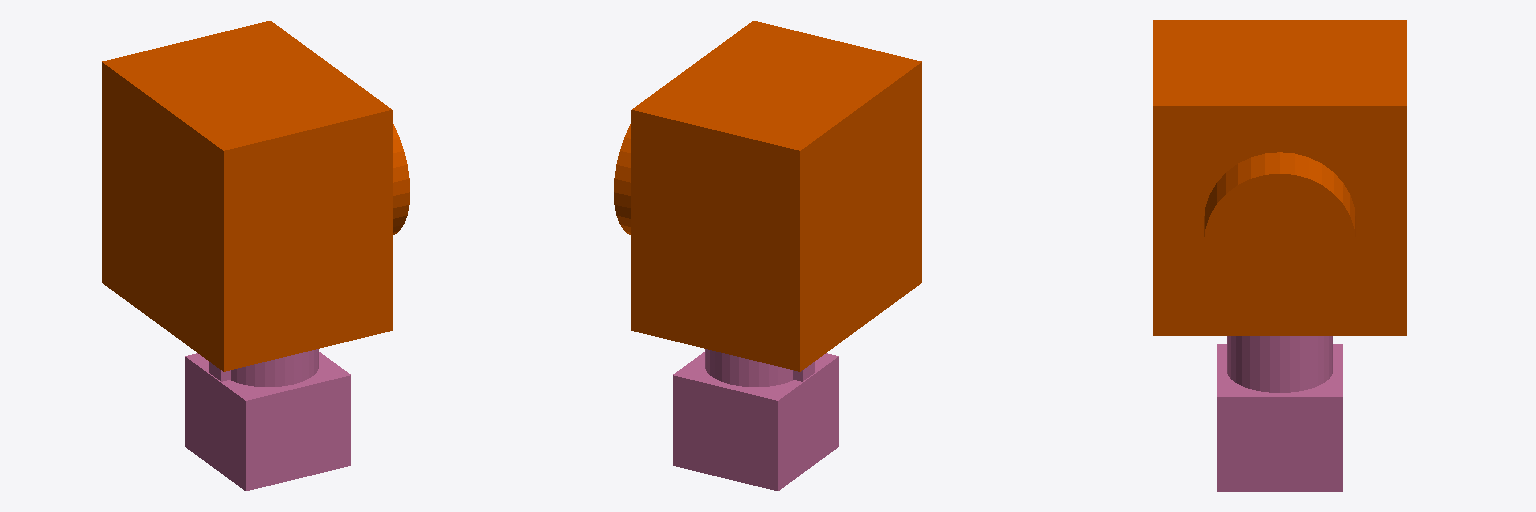
robot.urdf — robot:
<?xml version="1.0" ?>
<robot name="robot">
  <joint name="right_front" type="revolute">
    <parent link="base_link"/>
    <child link="right_front_wheel"/>
    <origin rpy="1.5707  0      0" xyz="0.125 -0.201  0.12"/>
    <axis xyz="0.00000000e+00   9.00000000e-05  -1.00000000e+00"/>
    <limit effort="0" lower="0" upper="0" velocity="0"/>
  </joint>
  <joint name="right_rear" type="revolute">
    <parent link="base_link"/>
    <child link="right_rear_wheel"/>
    <origin rpy="1.5707  0      0" xyz="-0.125 -0.201  0.12"/>
    <axis xyz="0.00000000e+00   9.00000000e-05  -1.00000000e+00"/>
    <limit effort="0" lower="0" upper="0" velocity="0"/>
  </joint>
  <joint name="left_front" type="revolute">
    <parent link="base_link"/>
    <child link="left_front_wheel"/>
    <origin rpy="1.5707  0      0" xyz="0.125  0.201  0.12"/>
    <axis xyz="0.00000000e+00   9.00000000e-05  -1.00000000e+00"/>
    <limit effort="0" lower="0" upper="0" velocity="0"/>
  </joint>
  <joint name="left_rear" type="revolute">
    <parent link="base_link"/>
    <child link="left_rear_wheel"/>
    <origin rpy="1.5707  0      0" xyz="-0.125  0.201  0.12"/>
    <axis xyz="0.00000000e+00   9.00000000e-05  -1.00000000e+00"/>
    <limit effort="0" lower="0" upper="0" velocity="0"/>
  </joint>
  <joint name="camera_joint" type="fixed">
    <parent link="base_link"/>
    <child link="camera_link"/>
    <origin rpy="0  0 0" xyz="0.1   0    0.40"/>
    <axis xyz="0  0  1"/>
    <limit effort="0.0" lower="0.0" upper="0.0" velocity="0.0"/>
  </joint>
  <joint name="hokuyo_joint" type="fixed">
    <parent link="base_link"/>
    <child link="hokuyo_link"/>
    <origin rpy="0  0  0" xyz="0.1   0    0.315"/>
    <axis xyz="0  0  1"/>
    <limit effort="0.0" lower="0.0" upper="0.0" velocity="0.0"/>
  </joint>
  <link name="base_link">
    <inertial>
      <mass value="14.0"/>
      <origin rpy="0  0  0" xyz="0    0    0.18"/>
      <inertia ixx="0.147116667" ixy="0.0" ixz="0.0" iyy="0.334951167" iyz="0.0" izz="0.3978345"/>
    </inertial>
    <collision name="collision1">
      <origin rpy="0  0  0" xyz="0    0    0.18"/>
      <geometry>
        <box size="0.501 0.300 0.19"/>
      </geometry>
    </collision>
    <visual name="visual1">
      <origin rpy="0  0  0" xyz="0    0    0.18"/>
      <geometry>
        <mesh filename="package://pioneer3at_description/meshes/chassis.dae" scale="1.0 1.0 1.0"/>
      </geometry>
    </visual>
  </link>
  <link name="right_front_wheel">
    <inertial>
      <mass value="1.5"/>
      <origin rpy="0  0  0" xyz="0  0  0"/>
      <inertia ixx="0.005240625" ixy="0" ixz="0" iyy="0.005240625" iyz="0" izz="0.009075"/>
    </inertial>
    <collision name="collision">
      <origin rpy="0  0  0" xyz="0  0  0"/>
      <geometry>
        <cylinder length="0.075" radius="0.110"/>
      </geometry>
    </collision>
    <visual name="visual">
      <origin rpy="0  0  0" xyz="0  0  0"/>
      <geometry>
        <mesh filename="package://pioneer3at_description/meshes/wheel.dae" scale="1.0 1.0 1.0"/>
      </geometry>
    </visual>
  </link>
  <link name="left_front_wheel">
    <inertial>
      <mass value="1.5"/>
      <origin rpy="0  0  0" xyz="0  0  0"/>
      <inertia ixx="0.005240625" ixy="0" ixz="0" iyy="0.005240625" iyz="0" izz="0.009075"/>
    </inertial>
    <collision name="collision">
      <origin rpy="0  0  0" xyz="0  0  0"/>
      <geometry>
        <cylinder length="0.075" radius="0.110"/>
      </geometry>
    </collision>
    <visual name="visual">
      <origin rpy="0  0  0" xyz="0  0  0"/>
      <geometry>
        <mesh filename="package://pioneer3at_description/meshes/wheel.dae" scale="1.0 1.0 1.0"/>
      </geometry>
    </visual>
  </link>
  <link name="right_rear_wheel">
    <inertial>
      <mass value="1.5"/>
      <origin rpy="0  0  0" xyz="0  0  0"/>
      <inertia ixx="0.005240625" ixy="0" ixz="0" iyy="0.005240625" iyz="0" izz="0.009075"/>
    </inertial>
    <collision name="collision">
      <origin rpy="0  0  0" xyz="0  0  0"/>
      <geometry>
        <cylinder length="0.075" radius="0.110"/>
      </geometry>
    </collision>
    <visual name="visual">
      <origin rpy="0  0  0" xyz="0  0  0"/>
      <geometry>
        <mesh filename="package://pioneer3at_description/meshes/wheel.dae" scale="1.0 1.0 1.0"/>
      </geometry>
    </visual>
  </link>
  <link name="left_rear_wheel">
    <inertial>
      <mass value="1.5"/>
      <origin rpy="0  0  0" xyz="0  0  0"/>
      <inertia ixx="0.005240625" ixy="0" ixz="0" iyy="0.005240625" iyz="0" izz="0.009075"/>
    </inertial>
    <collision name="collision">
      <origin rpy="0  0  0" xyz="0  0  0"/>
      <geometry>
        <cylinder length="0.075" radius="0.110"/>
      </geometry>
    </collision>
    <visual name="visual">
      <origin rpy="0  0  0" xyz="0  0  0"/>
      <geometry>
        <mesh filename="package://pioneer3at_description/meshes/wheel.dae" scale="1.0 1.0 1.0"/>
      </geometry>
    </visual>
  </link>
  <link name="camera_link">
    <inertial>
      <mass value="0.1"/>
      <origin rpy="0  0  0" xyz="0  0  0"/>
      <inertia ixx="0.000166667" ixy="0" ixz="0" iyy="0.000166667" iyz="0" izz="0.000166667"/>
    </inertial>
    <collision name="collision-box">
      <origin rpy="0  0  0" xyz="-0.01  0    0"/>
      <geometry>
        <box size="0.08 0.1 0.1"/>
      </geometry>
    </collision>
    <collision name="collision-lens">
      <origin rpy="0    1.57  0" xyz="0.04  0    0"/>
      <geometry>
        <cylinder length="0.02" radius="0.03"/>
      </geometry>
    </collision>
    <visual name="visual-box">
      <origin rpy="0  0  0" xyz="-0.01  0    0"/>
      <geometry>
        <box size="0.08 0.1 0.1"/>
      </geometry>
    </visual>
    <visual name="visual-lens">
      <origin rpy="0    1.57  0" xyz="0.04  0    0"/>
      <geometry>
        <cylinder length="0.02" radius="0.03"/>
      </geometry>
    </visual>
  </link>
  <link name="hokuyo_link">
    <inertial>
      <mass value="0.1"/>
      <origin rpy="0  0  0" xyz="0  0  0"/>
      <inertia ixx="0.6205208333e-04" ixy="0" ixz="0" iyy="0.6205208333e-04" iyz="0" izz="4.1927083333e-05"/>
    </inertial>
    <collision name="collision-base">
      <origin rpy="0  0  0" xyz="0      0     -0.0145"/>
      <geometry>
        <box size="0.05 0.05 0.041"/>
      </geometry>
    </collision>
    <collision name="collision-top">
      <origin rpy="0  0  0" xyz="0      0      0.0205"/>
      <geometry>
        <cylinder length="0.029" radius="0.021"/>
      </geometry>
    </collision>
    <visual name="visual-base">
      <origin rpy="0  0  0" xyz="0      0     -0.0145"/>
      <geometry>
        <box size="0.05 0.05 0.041"/>
      </geometry>
    </visual>
    <visual name="visual-top">
      <origin rpy="0  0  0" xyz="0      0      0.0205"/>
      <geometry>
        <cylinder length="0.029" radius="0.021"/>
      </geometry>
    </visual>
    <visual name="visual-top-back">
      <origin rpy="0  0  0" xyz="-0.02   0     0.019"/>
      <geometry>
        <box size="0.01 0.01 0.025"/>
      </geometry>
    </visual>
  </link>
  <transmission name="right_front_transmssion">
    <type>transmission_interface/SimpleTransmission</type>
    <joint name="right_front">
      <hardwareInterface>hardware_interface/EffortJointInterface</hardwareInterface>
      <mechanicalReduction>1</mechanicalReduction>
    </joint>
    <actuator name="right_front_motor">
      <hardwareInterface>hardware_interface/EffortJointInterface</hardwareInterface>
      <mechanicalReduction>1</mechanicalReduction>
    </actuator>
  </transmission>
  <transmission name="right_rear_transmssion">
    <type>transmission_interface/SimpleTransmission</type>
    <joint name="right_rear">
      <hardwareInterface>hardware_interface/EffortJointInterface</hardwareInterface>
      <mechanicalReduction>1</mechanicalReduction>
    </joint>
    <actuator name="right_rear_motor">
      <hardwareInterface>hardware_interface/EffortJointInterface</hardwareInterface>
      <mechanicalReduction>1</mechanicalReduction>
    </actuator>
  </transmission>
  <transmission name="left_front_transmssion">
    <type>transmission_interface/SimpleTransmission</type>
    <joint name="left_front">
      <hardwareInterface>hardware_interface/EffortJointInterface</hardwareInterface>
      <mechanicalReduction>1</mechanicalReduction>
    </joint>
    <actuator name="left_front_motor">
      <hardwareInterface>hardware_interface/EffortJointInterface</hardwareInterface>
      <mechanicalReduction>1</mechanicalReduction>
    </actuator>
  </transmission>
  <transmission name="left_rear_transmssion">
    <type>transmission_interface/SimpleTransmission</type>
    <joint name="left_rear">
      <hardwareInterface>hardware_interface/EffortJointInterface</hardwareInterface>
      <mechanicalReduction>1</mechanicalReduction>
    </joint>
    <actuator name="left_rear_motor">
      <hardwareInterface>hardware_interface/EffortJointInterface</hardwareInterface>
      <mechanicalReduction>1</mechanicalReduction>
    </actuator>
  </transmission>
</robot>

--- Render facts (derived) ---
The picture shows the robot from 3 angles, left to right: view 1: azimuth 30°, elevation 25°; view 2: azimuth 150°, elevation 25°; view 3: azimuth 270°, elevation 25°; orthographic projection.
Model robot with 7 links and 6 joints (4 revolute, 2 fixed), rooted at base_link, posed all joints at 0.
Visible links, largest first — view 1: camera_link, hokuyo_link; view 2: camera_link, hokuyo_link; view 3: camera_link, hokuyo_link.
Boxes of the visible links, x1,y1,x2,y2 form: camera_link: (102,21,409,371); hokuyo_link: (185,349,350,490); camera_link: (614,21,921,371); hokuyo_link: (673,349,838,490); camera_link: (1153,20,1406,335); hokuyo_link: (1217,336,1342,491).
Size in the robot's own frame: 0.1 by 0.1 by 0.17 metres.
Meshes: 2 distinct files referenced, 0 mesh visuals loaded (none loaded); not drawn: 5 (reference not matched to a file when rendering).